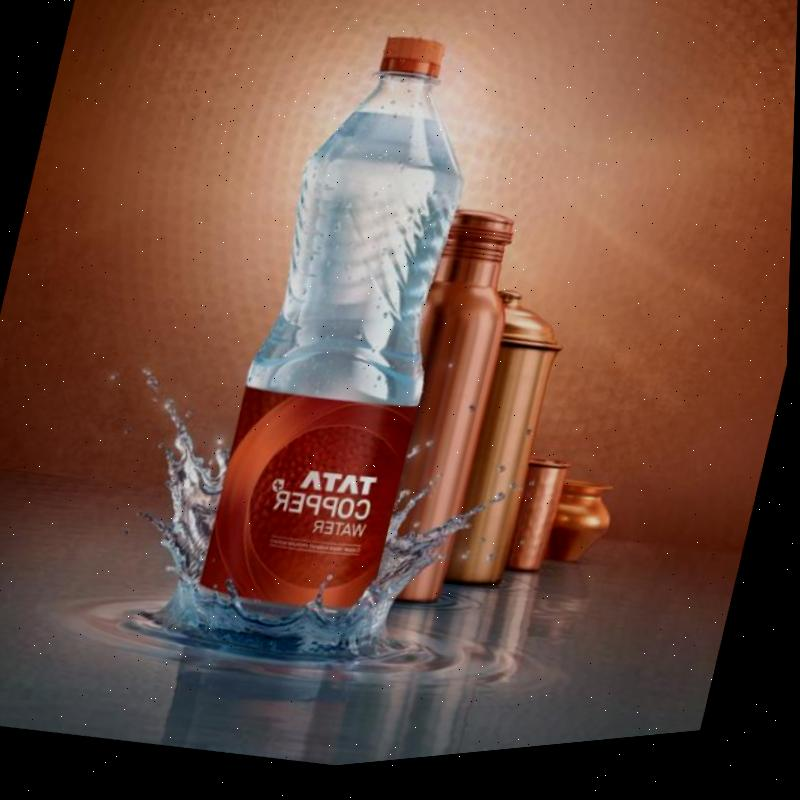botella: (188, 23, 506, 680)
